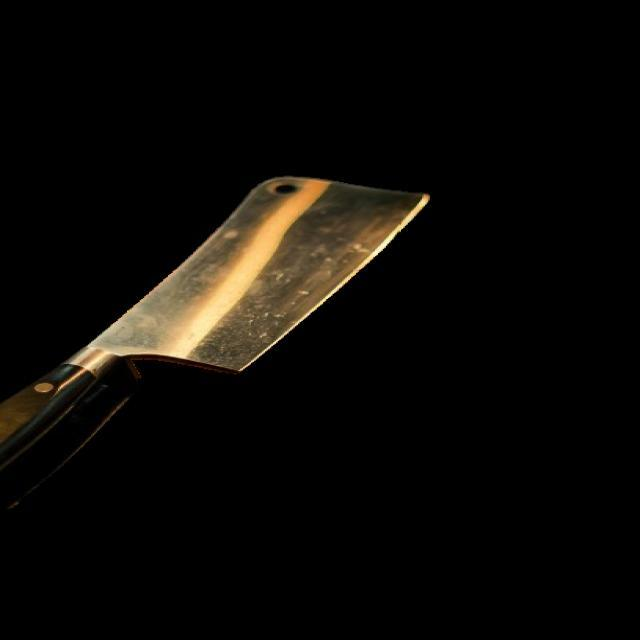knife: (0, 164, 439, 518)
